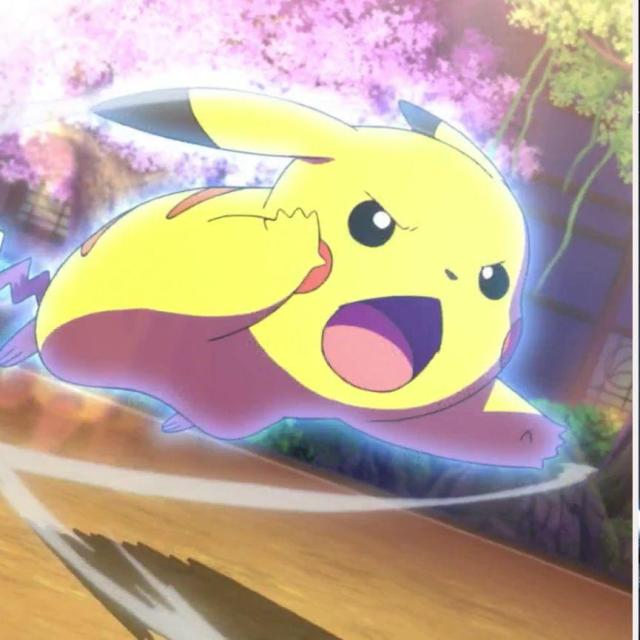pikachu: (0, 90, 564, 470)
